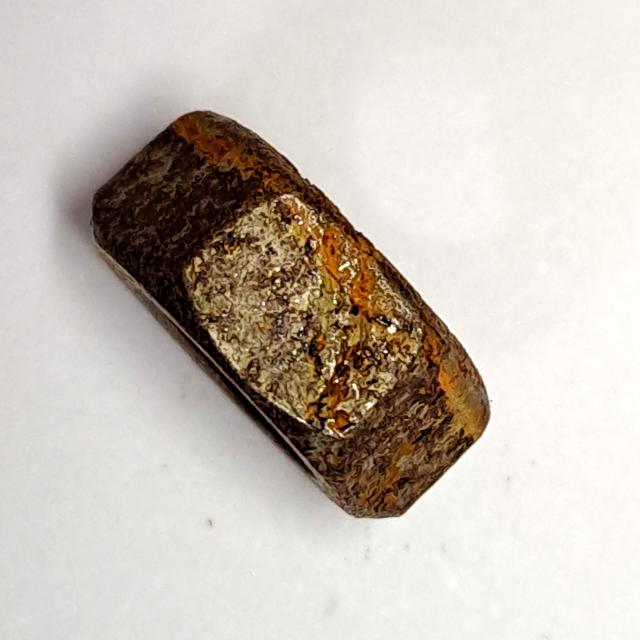Side_Rust: (77, 104, 501, 534)
